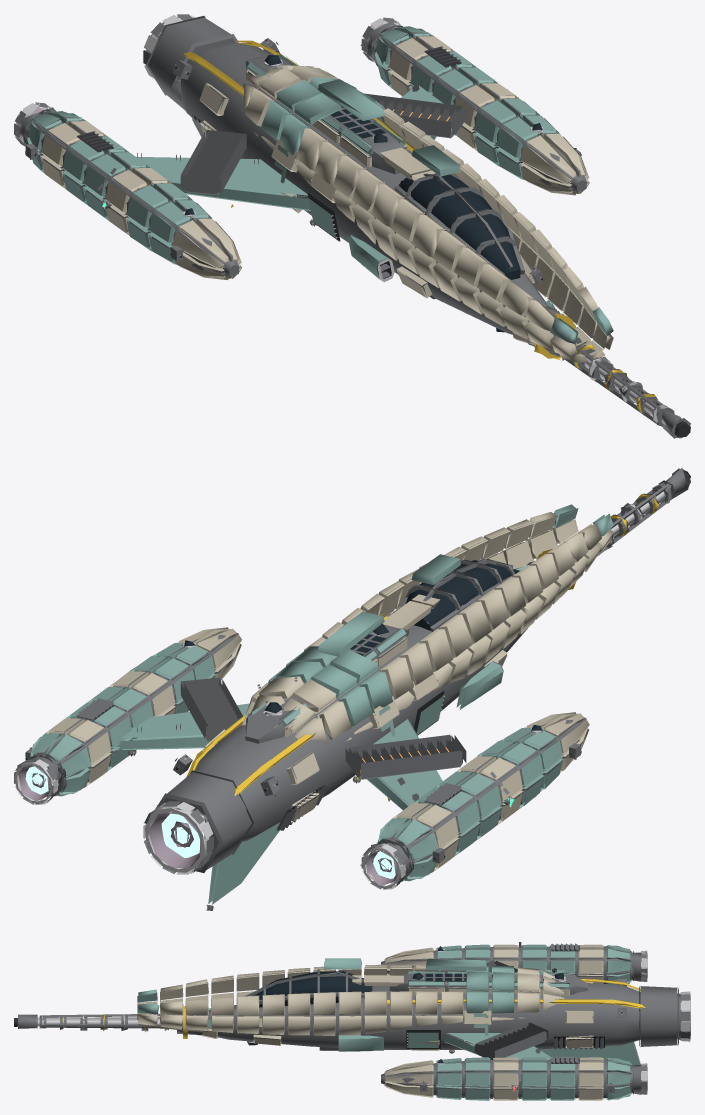
File: interceptor_c_lod.glb
3 views of the same model, one above another, from view 1: azimuth 30°, elevation 25°; view 2: azimuth 150°, elevation 25°; view 3: azimuth 270°, elevation 25° (orthographic). The views are drawn at different scales.
Visible parts, largest first — view 1: interceptor_c; view 2: interceptor_c; view 3: interceptor_c.
Boxes of the visible parts, x1,y1,x2,y2 form: interceptor_c: (14, 14, 690, 438); interceptor_c: (14, 468, 690, 912); interceptor_c: (14, 942, 690, 1100).
Size of the model in its own units: 5.67 by 2.4 by 11.93.
